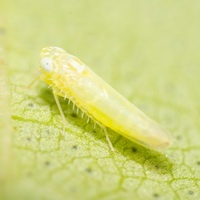insect: (40, 47, 172, 150)
